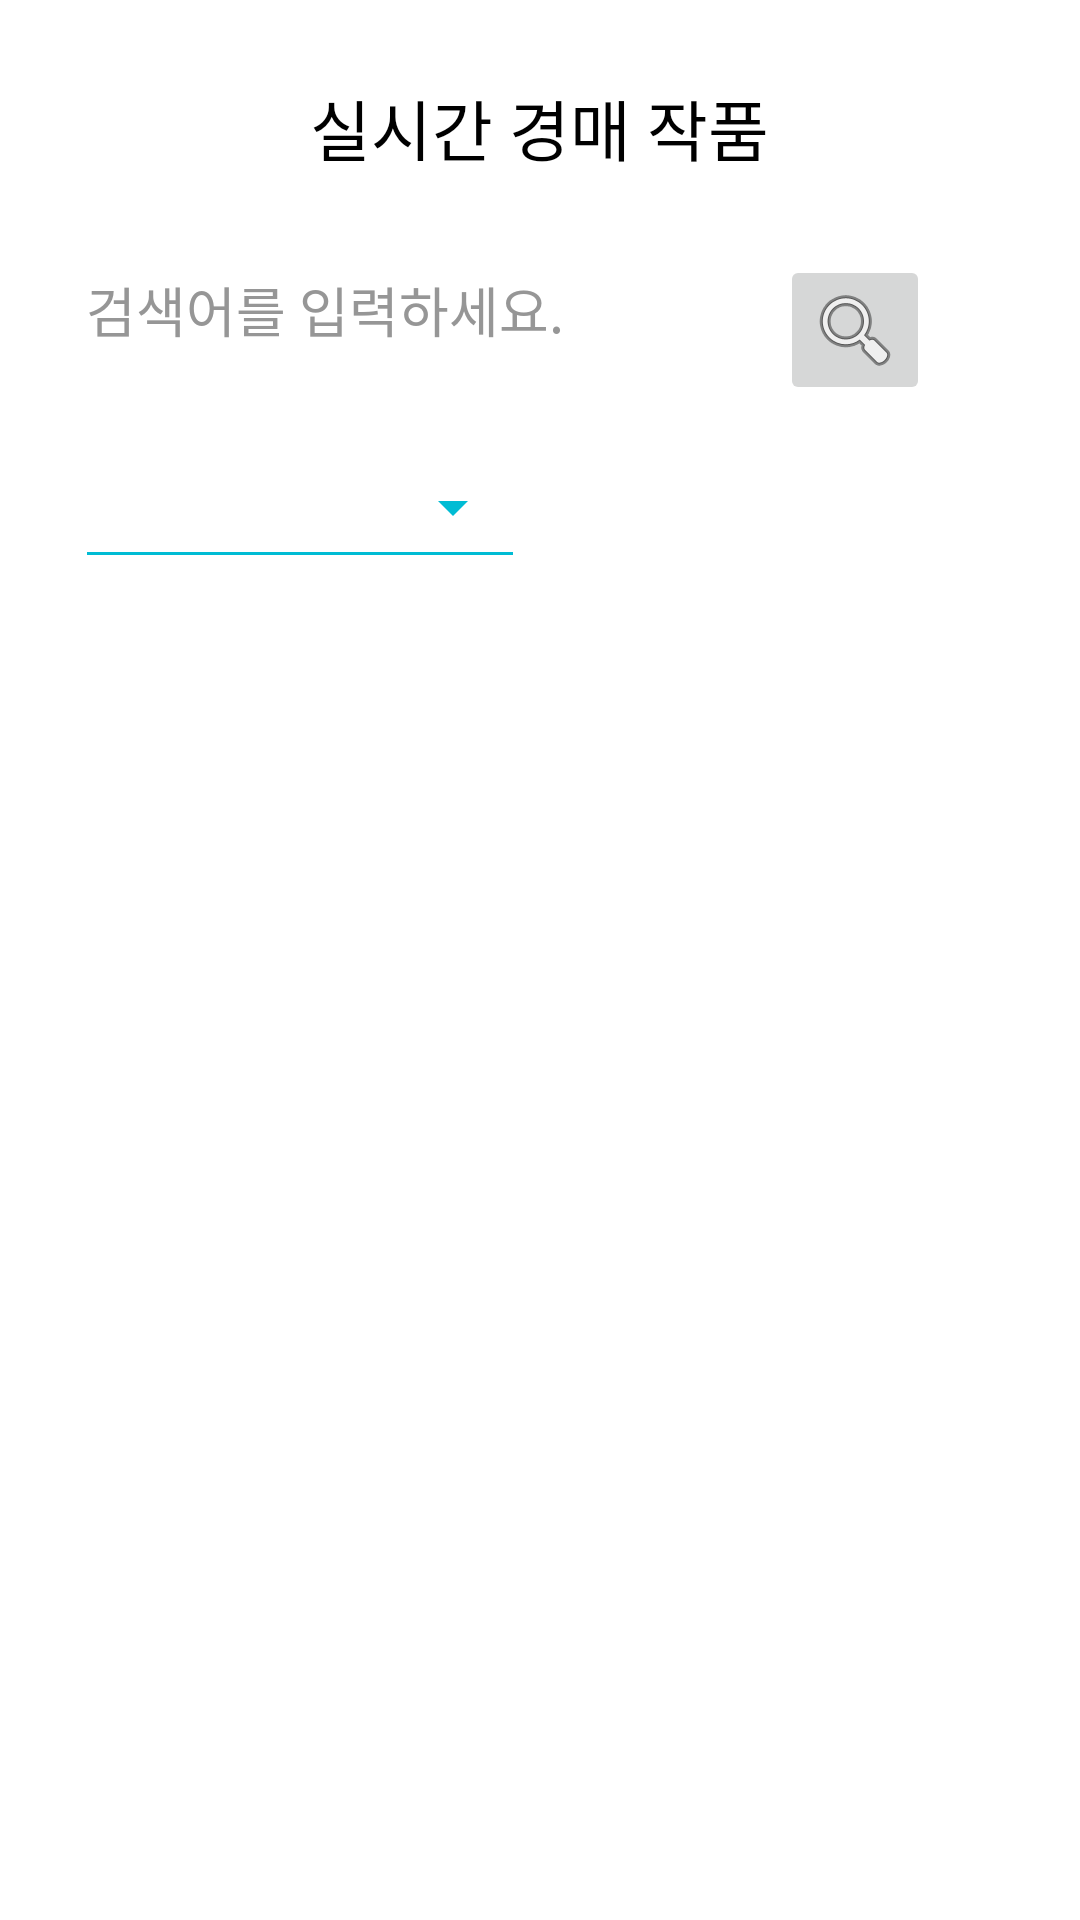

Named icons in this screenshot (1080 x 1920) and their bounding boxes, (x1,y1,x2,y2):
키워드 찾기: (792,273,918,387)
